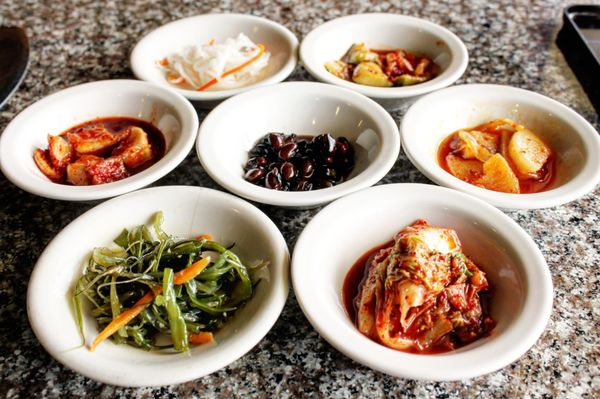sushi: (25, 184, 291, 387), (292, 183, 554, 382), (194, 81, 402, 208), (401, 84, 599, 214), (0, 80, 199, 203), (131, 13, 300, 106), (301, 13, 468, 103)
